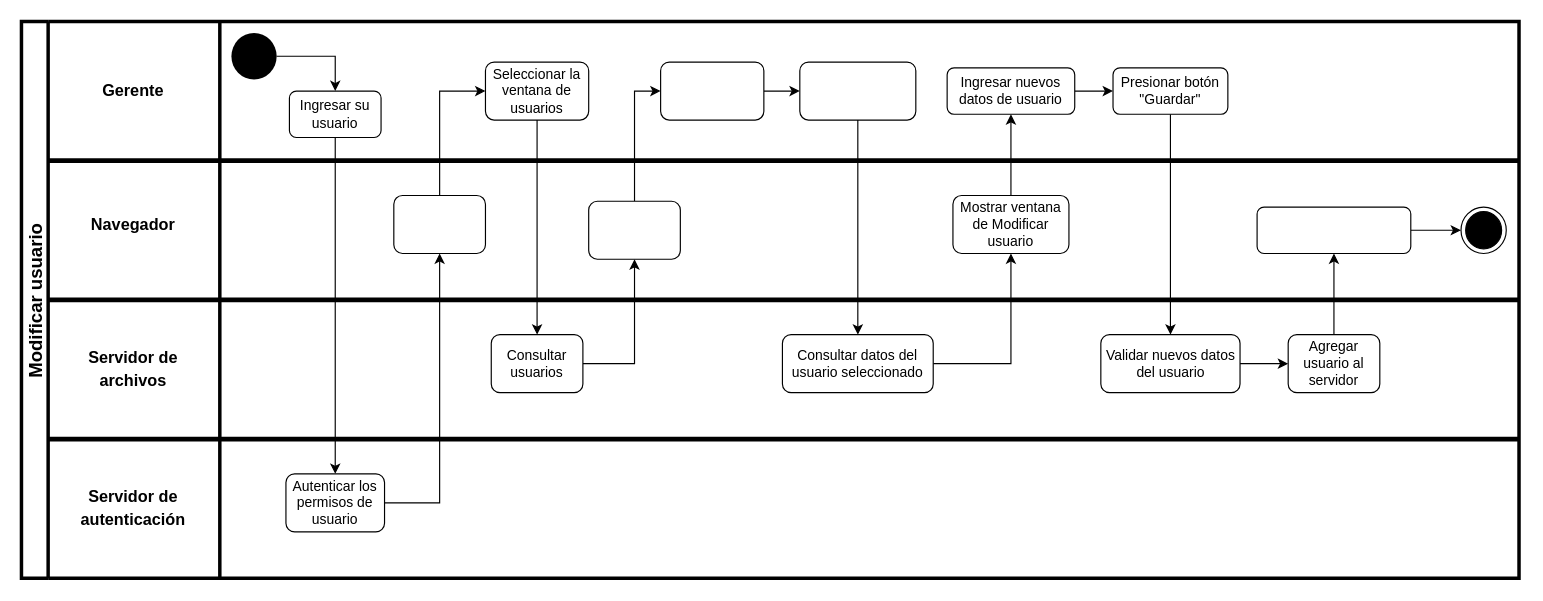
Image size: 1543x601. Some labels were removed from this diagram. The shapes that lost their labels are listed below. From the top down, each one's centre as x and y in pixels, then its label:
the point at 711,90: Seleccionar un usuario
the point at 857,90: Presionar botón "Modificar"
the point at 439,223: Mostrar la ventana del gerente
the point at 634,229: Mostrar lista de usuarios
the point at 1333,229: Mostrar mensaje "Usuario modificado"
